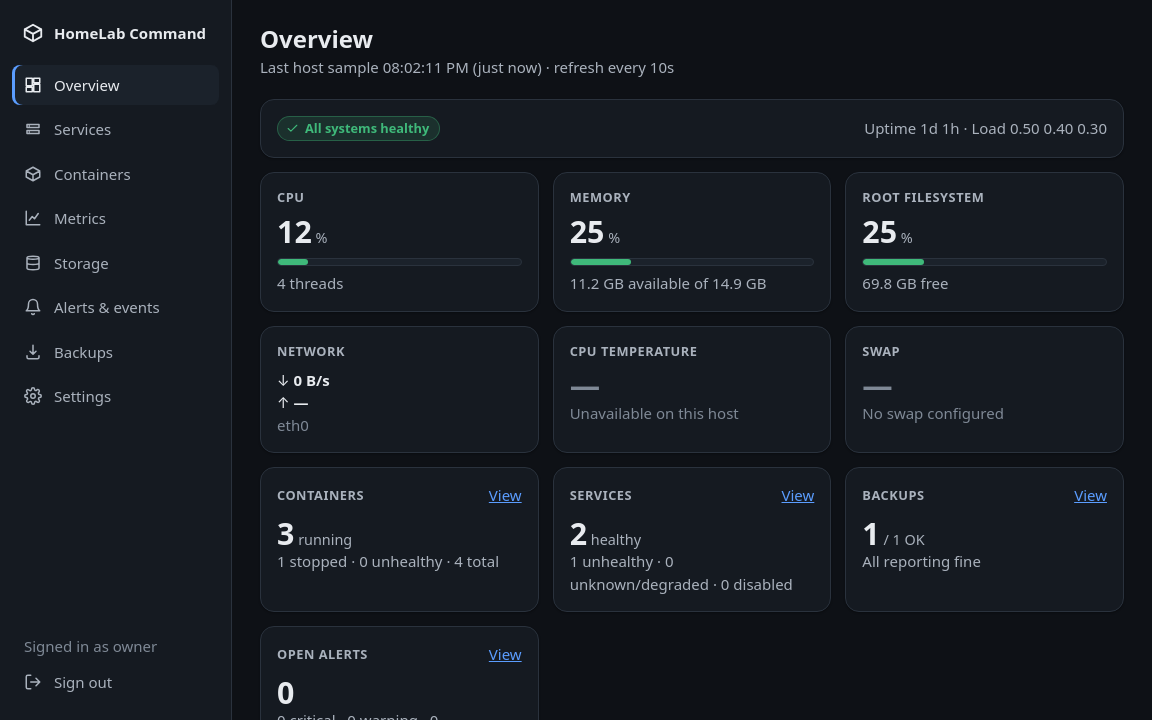
Test: App › sign out clears the session
Expected: the heading "Overview" is shown, [260,22,373,55]
Click the button "Sign out".
click(116, 682)  # box [12,662,219,702]
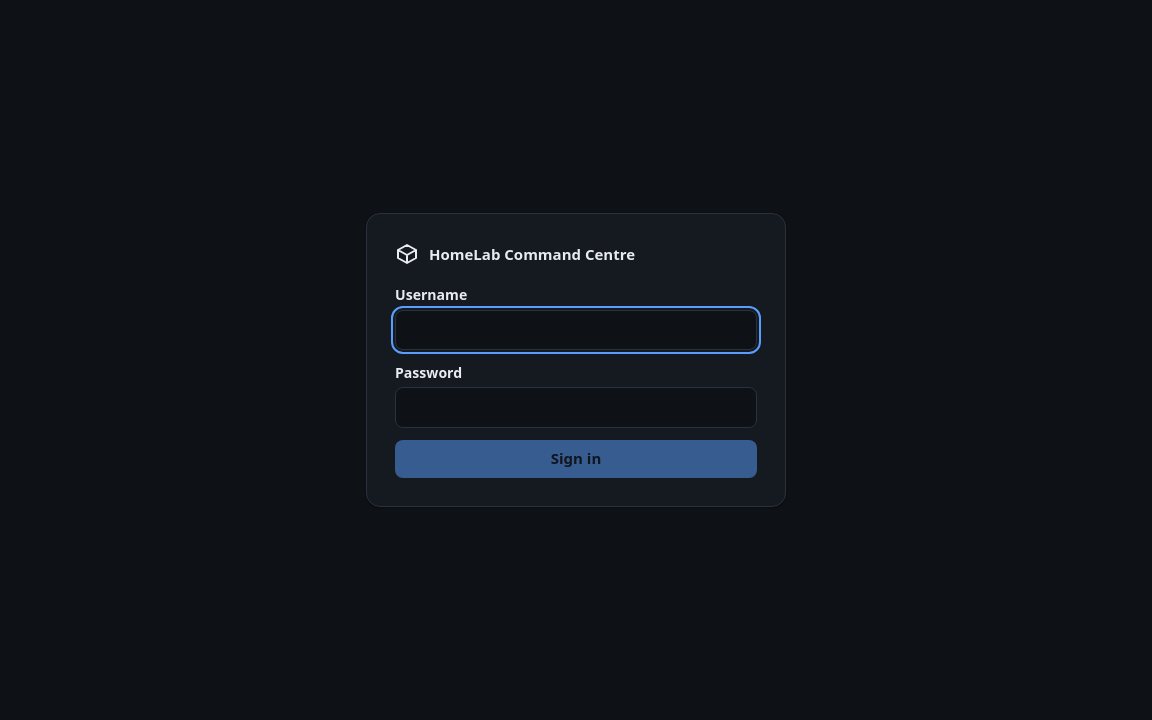
Expected: the form "Sign in" is shown, [366,213,786,507]
